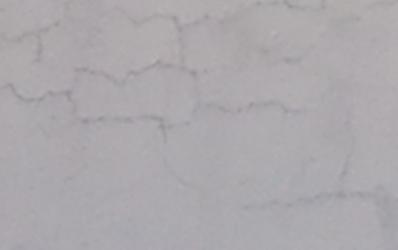fissura: (9, 14, 302, 143)
